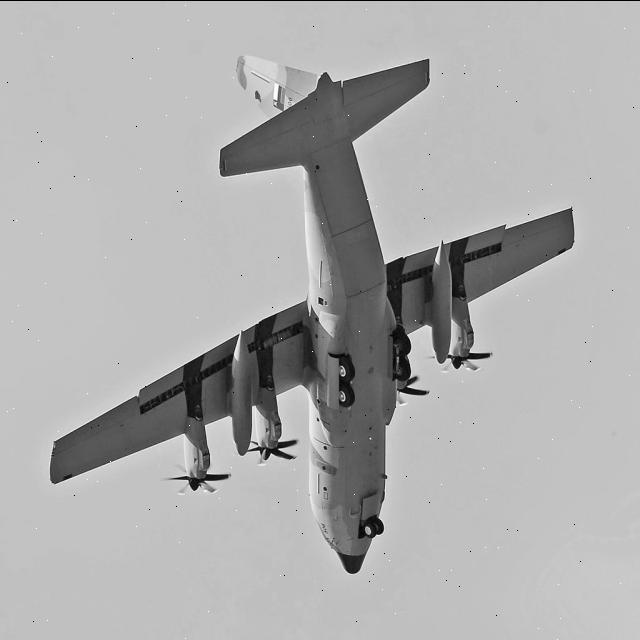C130: (21, 4, 604, 630)
